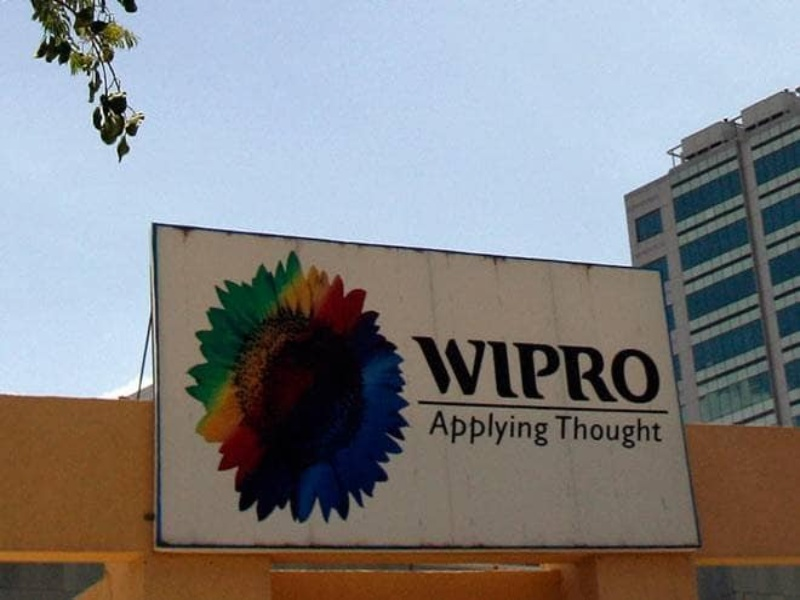wipro: (186, 251, 414, 528)
